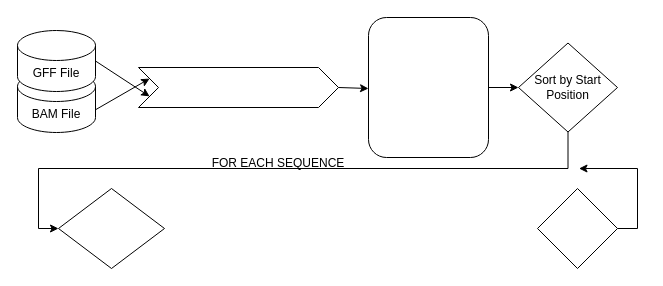
This 663x286 diagram has some shape labels left out. The box of each missing label's shape, as (x1, y1, x2, y2) in pixels:
Hash table Maps SAM to GFF: (368, 16, 488, 158)
Names are hashed: (138, 66, 338, 108)
